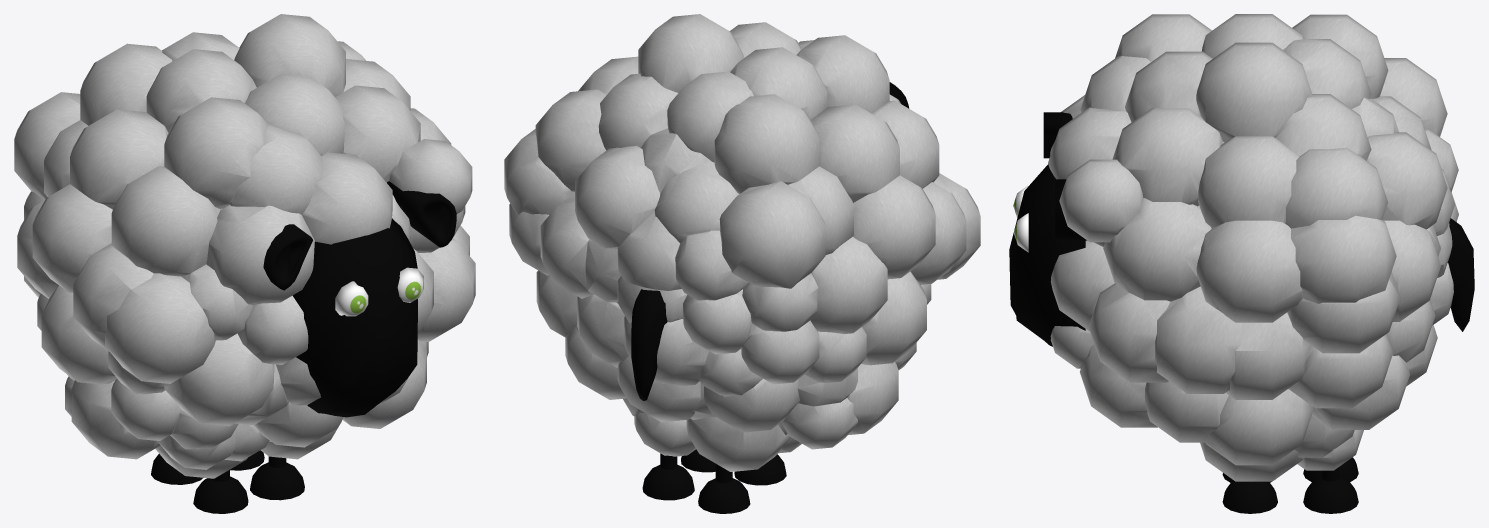
The model's file is BigSheep.FBX.
3 renders of one model, left to right at view 1: azimuth 30°, elevation 25°; view 2: azimuth 150°, elevation 25°; view 3: azimuth 270°, elevation 25°, orthographic. The views are drawn at different scales.
Visible parts, largest first — view 1: Vacht, Sphere058, Box002, Box003, Sphere059, Sphere003, Sphere052, Sphere053, Sphere061; view 2: Vacht, Box004, Sphere061, Sphere060, Sphere003, Sphere059; view 3: Vacht, Sphere058, Box004, Sphere060, Sphere059, Box003, Box002, Sphere061.
Boxes of the visible parts, x1=… form: Vacht: x1=14, y1=14, x2=475, y2=478; Sphere058: x1=292, y1=218, x2=417, y2=417; Box002: x1=387, y1=181, x2=456, y2=247; Box003: x1=263, y1=224, x2=312, y2=290; Sphere059: x1=250, y1=456, x2=304, y2=500; Sphere003: x1=193, y1=469, x2=248, y2=513; Sphere052: x1=335, y1=281, x2=368, y2=316; Sphere053: x1=397, y1=267, x2=423, y2=302; Sphere061: x1=151, y1=454, x2=203, y2=484; Vacht: x1=504, y1=14, x2=980, y2=471; Box004: x1=631, y1=289, x2=667, y2=400; Sphere061: x1=698, y1=464, x2=750, y2=513; Sphere060: x1=642, y1=453, x2=694, y2=500; Sphere003: x1=734, y1=454, x2=786, y2=485; Sphere059: x1=681, y1=449, x2=715, y2=472; Vacht: x1=1048, y1=14, x2=1458, y2=481; Sphere058: x1=1009, y1=164, x2=1085, y2=346; Box004: x1=1447, y1=218, x2=1474, y2=331; Sphere060: x1=1303, y1=467, x2=1358, y2=513; Sphere059: x1=1222, y1=480, x2=1277, y2=513; Box003: x1=1043, y1=112, x2=1072, y2=158; Box002: x1=1055, y1=179, x2=1086, y2=240; Sphere061: x1=1303, y1=457, x2=1358, y2=481.
Size of the model in its own units: 40.11 by 44.32 by 40.43.
Materials: 6 (2 with a texture image).
